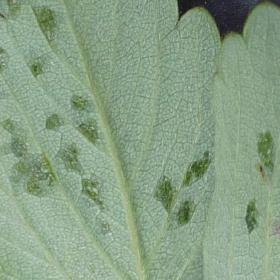Angular Leafspot: (201, 0, 279, 279)
